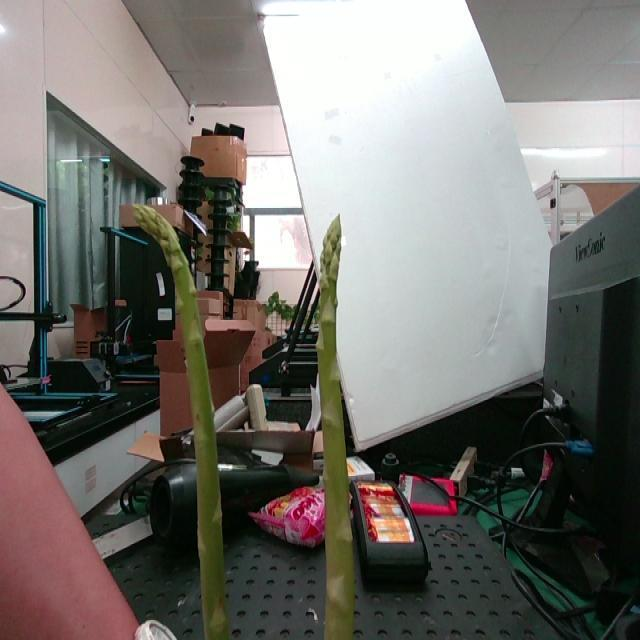aspargus: (129, 197, 227, 640), (318, 218, 358, 640)
